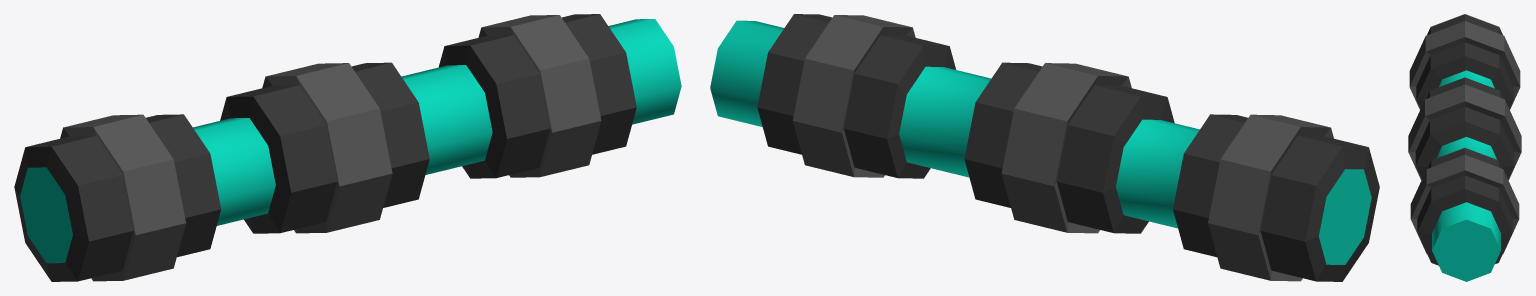
Rendered from Pipe.fbx.
The picture shows the model from 3 angles, left to right: view 1: azimuth 30°, elevation 25°; view 2: azimuth 150°, elevation 25°; view 3: azimuth 270°, elevation 25°; orthographic projection. The views are drawn at different scales.
Parts seen in each view (by area): view 1: Pipe; view 2: Pipe; view 3: Pipe.
Part boxes in pixels (<box>): Pipe: <box>14,14,681,281</box>; Pipe: <box>710,14,1379,281</box>; Pipe: <box>1408,14,1521,281</box>.
Size of the model in its own units: 1327 by 328 by 328.
